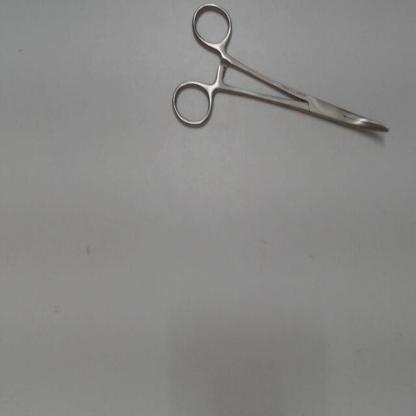Crile Artery Forceps: (168, 1, 397, 144)
